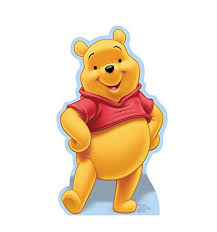Winnie: (67, 24, 158, 127)
